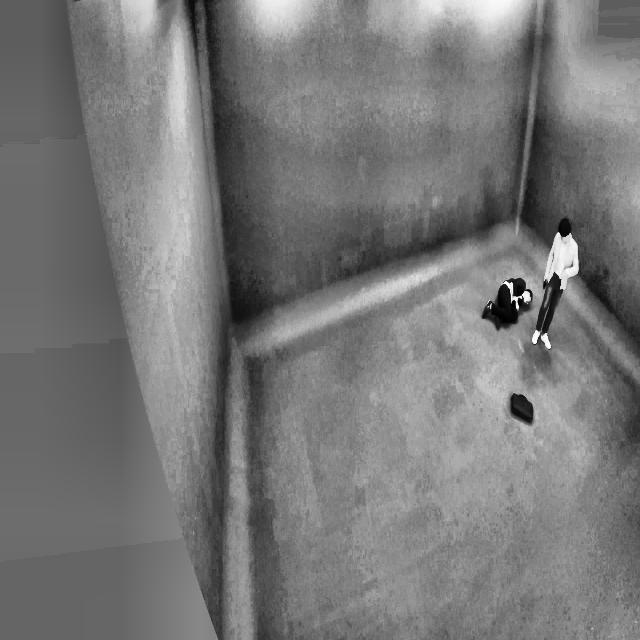assult: (476, 213, 588, 353), (478, 267, 584, 346), (478, 270, 538, 327)
